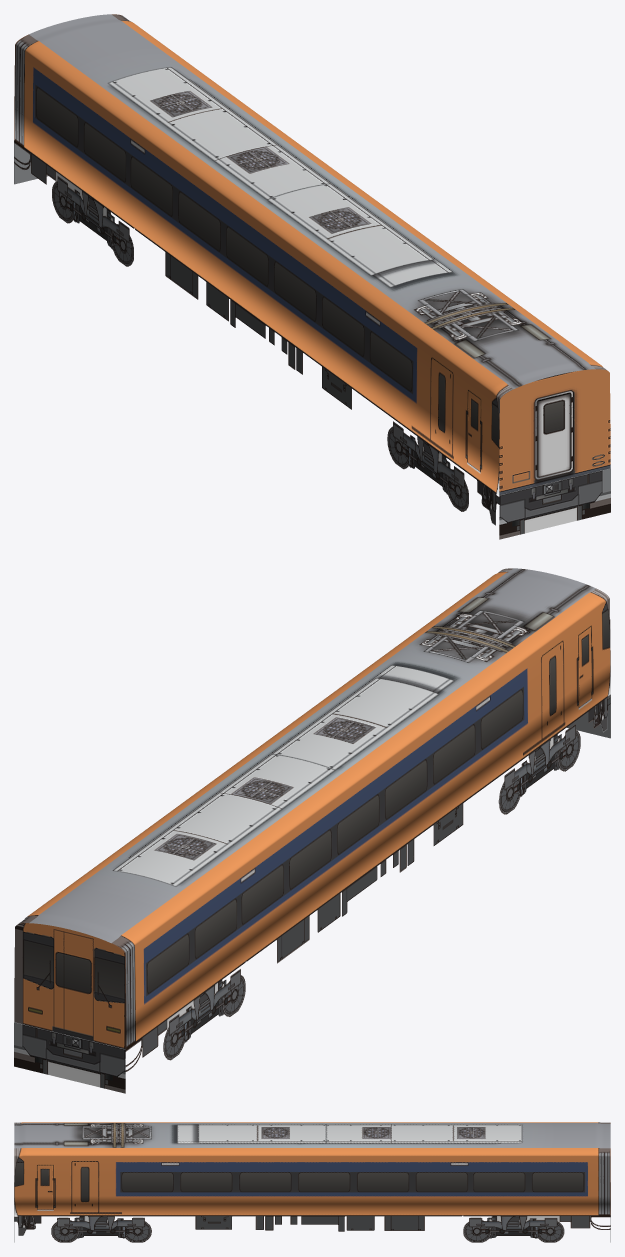
The model's file is car4.glb.
3 views of the same model, one above another, from view 1: azimuth 30°, elevation 25°; view 2: azimuth 150°, elevation 25°; view 3: azimuth 270°, elevation 25° (orthographic). The views are drawn at different scales.
Visible parts, largest first — view 1: kintetsu-22000-car4; view 2: kintetsu-22000-car4; view 3: kintetsu-22000-car4.
Boxes of the visible parts, box(x1,y1,x2,y2) form: kintetsu-22000-car4: box(14, 14, 610, 539); kintetsu-22000-car4: box(14, 568, 610, 1093); kintetsu-22000-car4: box(14, 1122, 610, 1242).
Size of the model in its own units: 2.8 by 3.63 by 21.12.
8 materials, 7 textured.
